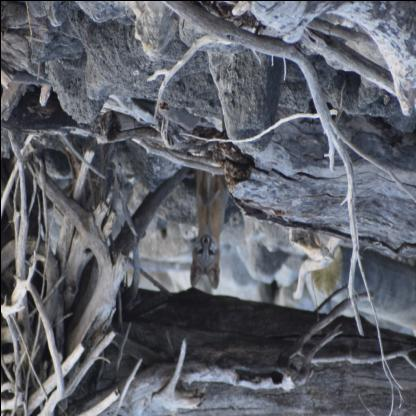zorro: (186, 164, 228, 293)
